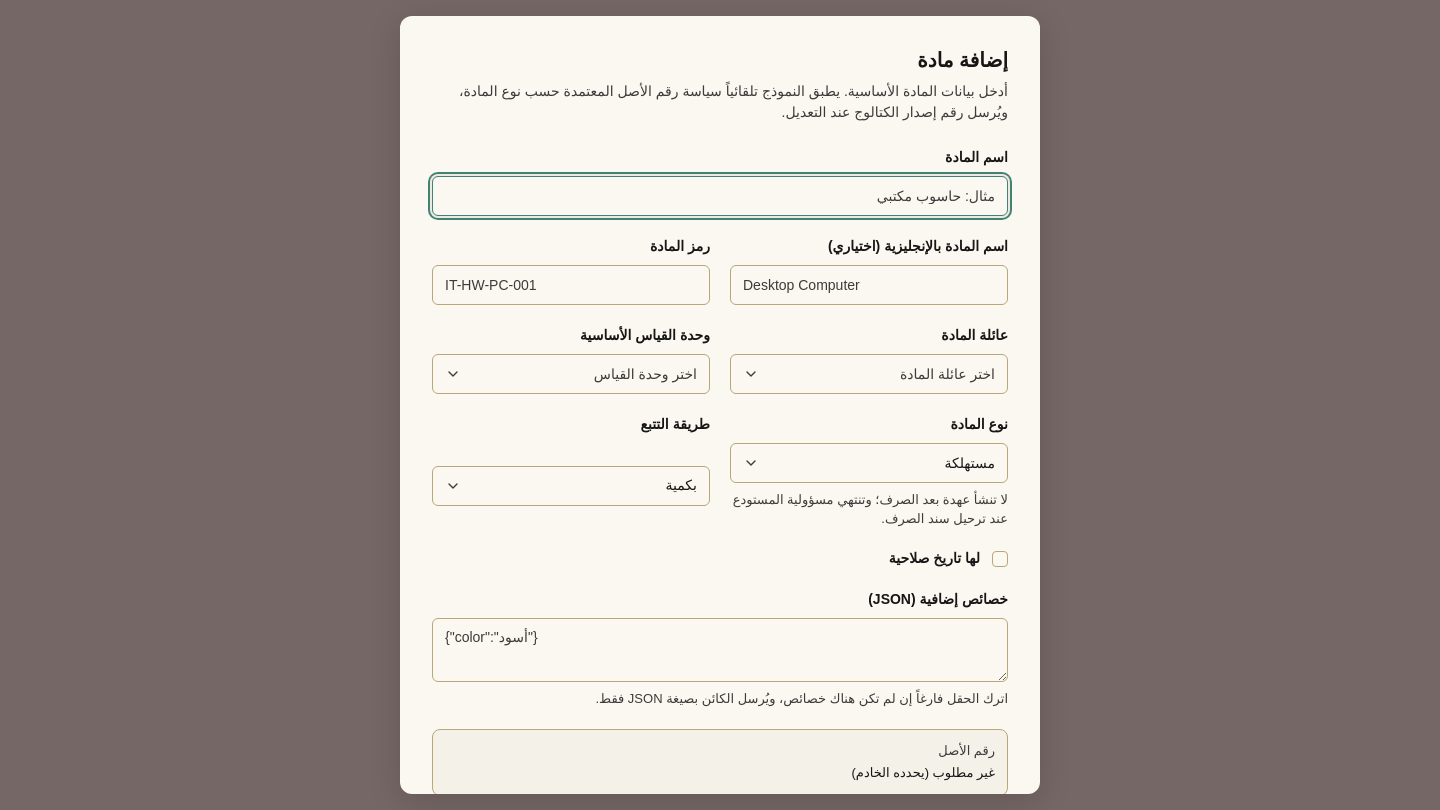
Test case: MaterialFormDialog › confirms a tracking-type change too, because it also bumps the catalog version
The width and height of the screenshot is (1440, 810).
Click the dropdown named "طريقة التتبع".
click(681, 485)  # box x1=432 y1=466 x2=710 y2=506
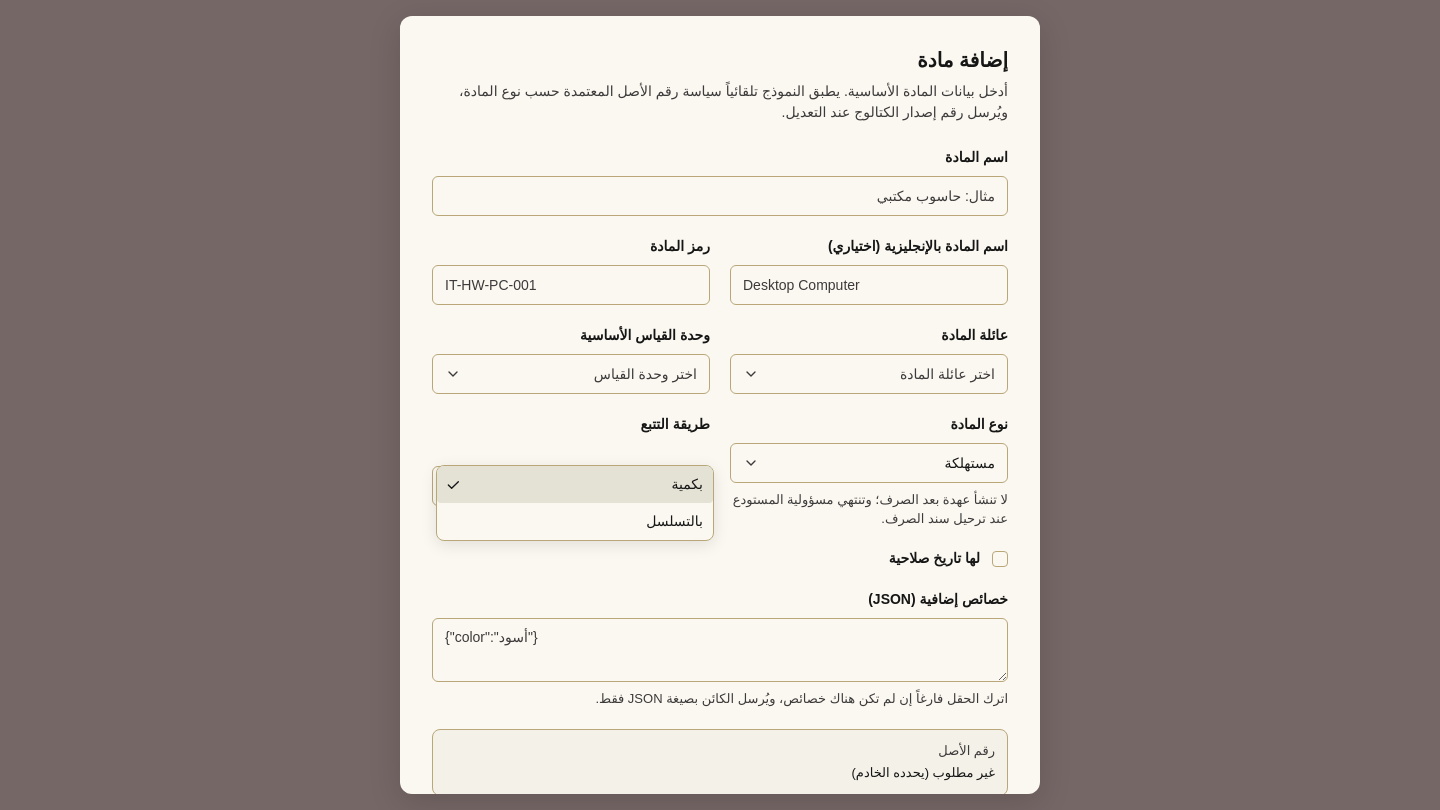
Click the option "بالتسلسل".
click(675, 521)  # box x1=646 y1=513 x2=703 y2=529
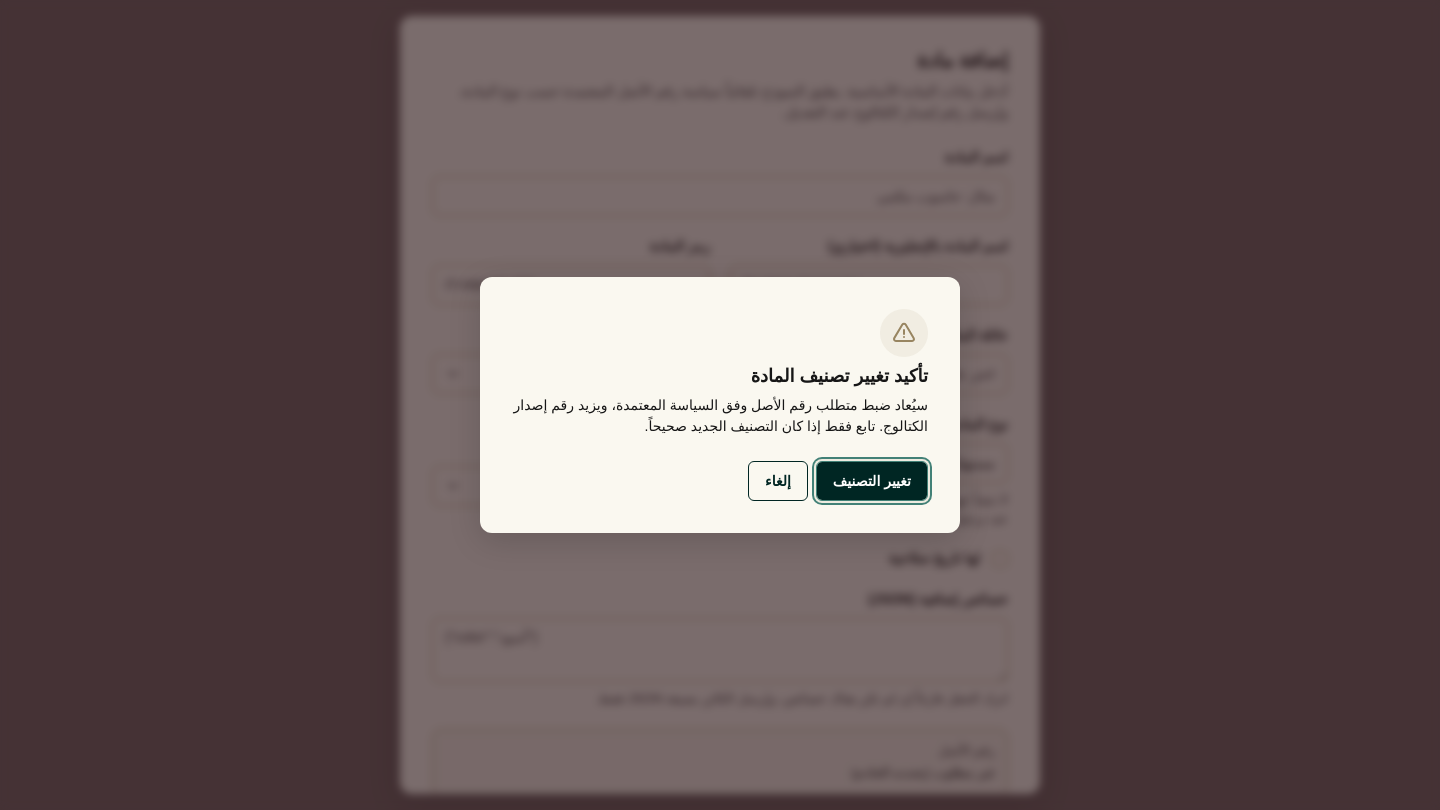
Click the button "تغيير التصنيف".
click(872, 481)  # box x1=816 y1=461 x2=928 y2=501
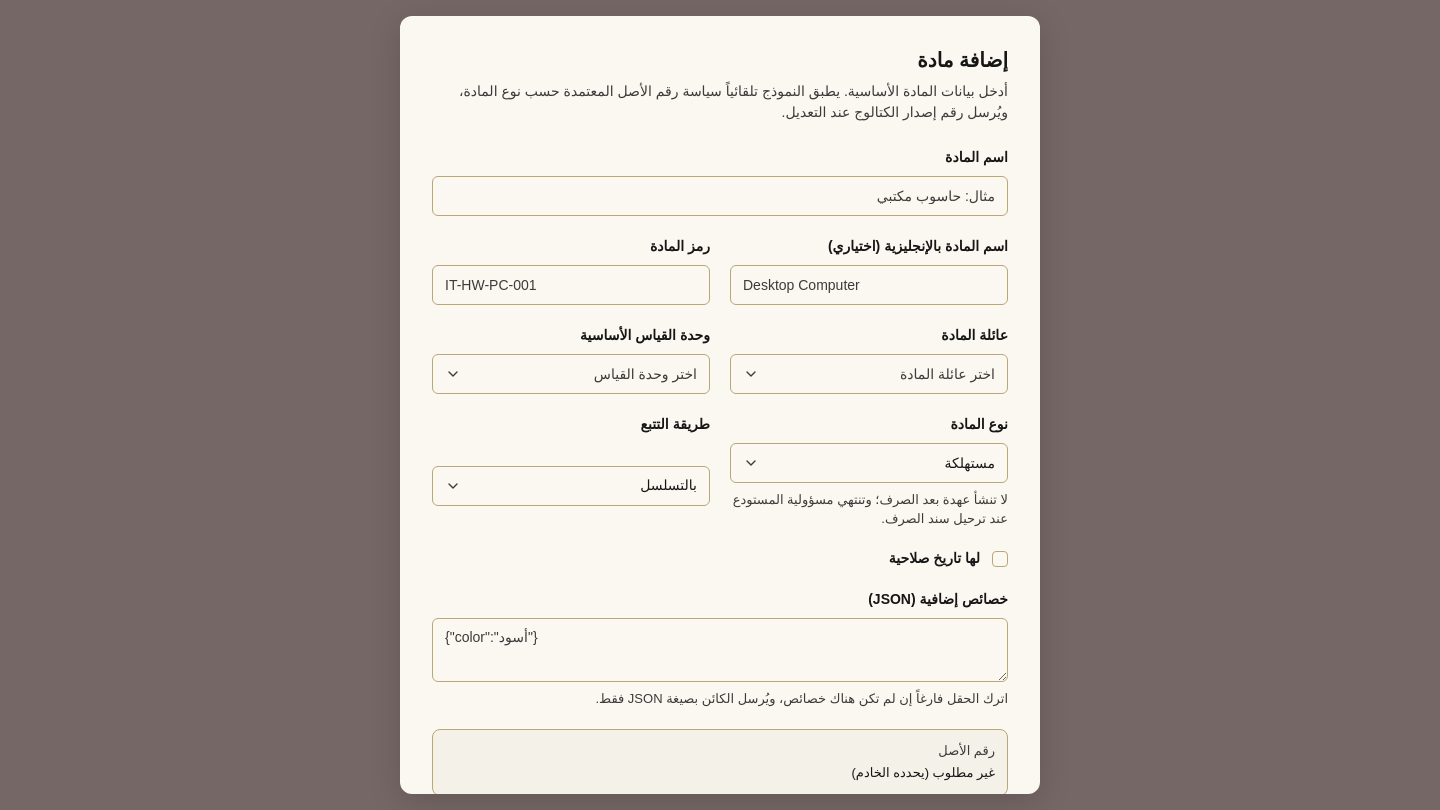
Check: the dropdown named "طريقة التتبع" shows "بالتسلسل", box x1=432 y1=466 x2=710 y2=506
